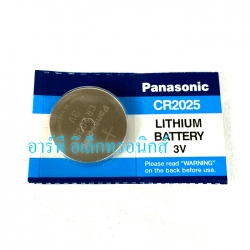Battery: (47, 83, 132, 166)
